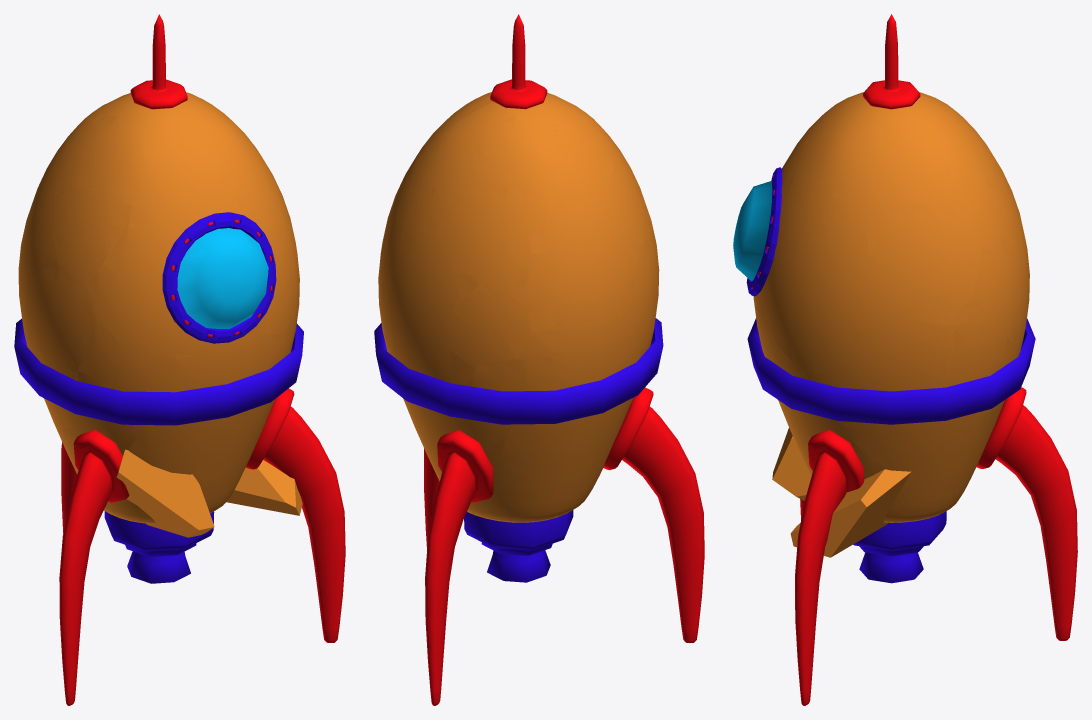
The model's file is ShatteredShip.fbx.
3 views of the same model, side by side, from view 1: azimuth 30°, elevation 25°; view 2: azimuth 150°, elevation 25°; view 3: azimuth 270°, elevation 25° (orthographic).
Parts seen in each view (by area): view 1: boddy, Arm, boddy.belt, boddy_cell.015, win.001, boddy_cell.078, boddy_cell.013, win-frem, fire-nozzle, boddy_cell.018, boddy_cell.014, boddy_cell.011 (+14 smaller); view 2: boddy, Arm, boddy.belt, boddy_cell.067, boddy_cell.078, fire-nozzle, boddy_cell.031, boddy_cell.030, boddy_cell, boddy_cell.077, head, boddy_cell.056 (+7 smaller); view 3: boddy, Arm, boddy_cell.018, boddy.belt, boddy_cell.061, fire-nozzle, boddy_cell.011, boddy_cell.068, boddy_cell.014, win.001, head, boddy_cell.062 (+10 smaller).
Part boxes in pixels (x1,y1,x2,y2): boddy: (19, 93, 299, 523); Arm: (59, 388, 345, 705); boddy.belt: (14, 318, 303, 425); boddy_cell.015: (87, 171, 241, 352); win.001: (177, 228, 268, 328); boddy_cell.078: (52, 116, 205, 210); boddy_cell.013: (116, 449, 214, 537); win-frem: (162, 212, 276, 343); fire-nozzle: (104, 511, 214, 583); boddy_cell.018: (162, 92, 263, 183); boddy_cell.014: (232, 161, 299, 311); boddy_cell.011: (226, 460, 302, 515); boddy: (378, 93, 659, 522); Arm: (424, 387, 704, 705); boddy.belt: (374, 318, 663, 424); boddy_cell.067: (407, 184, 547, 295); boddy_cell.078: (545, 95, 618, 207); fire-nozzle: (464, 510, 573, 582); boddy_cell.031: (467, 101, 556, 190); boddy_cell.030: (518, 208, 641, 326); boddy_cell: (499, 353, 586, 476); boddy_cell.077: (448, 356, 524, 457); head: (490, 14, 547, 109); boddy_cell.056: (532, 313, 650, 368); boddy: (753, 92, 1029, 522); Arm: (795, 387, 1077, 705); boddy_cell.018: (798, 96, 954, 211); boddy.belt: (747, 318, 1035, 424); boddy_cell.061: (867, 201, 982, 324); fire-nozzle: (853, 511, 946, 583); boddy_cell.011: (790, 469, 911, 557); boddy_cell.068: (838, 413, 976, 471); boddy_cell.014: (771, 169, 871, 351); win.001: (733, 181, 772, 281); head: (863, 14, 920, 109); boddy_cell.062: (837, 316, 955, 388).
Bounding box in the file's own units: 308 × 328 × 658.
